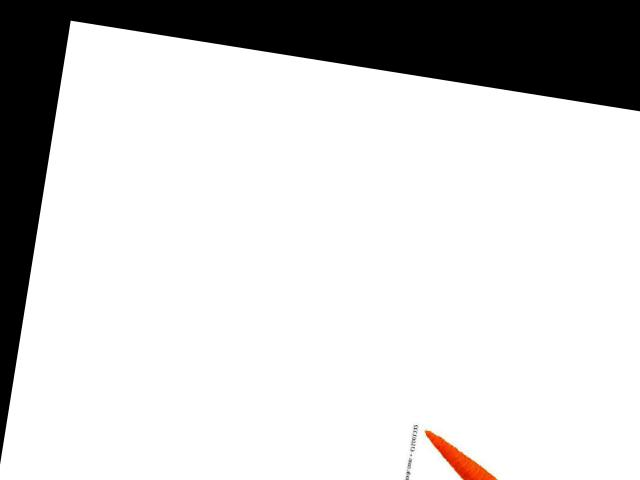carrot: (412, 424, 514, 480)
